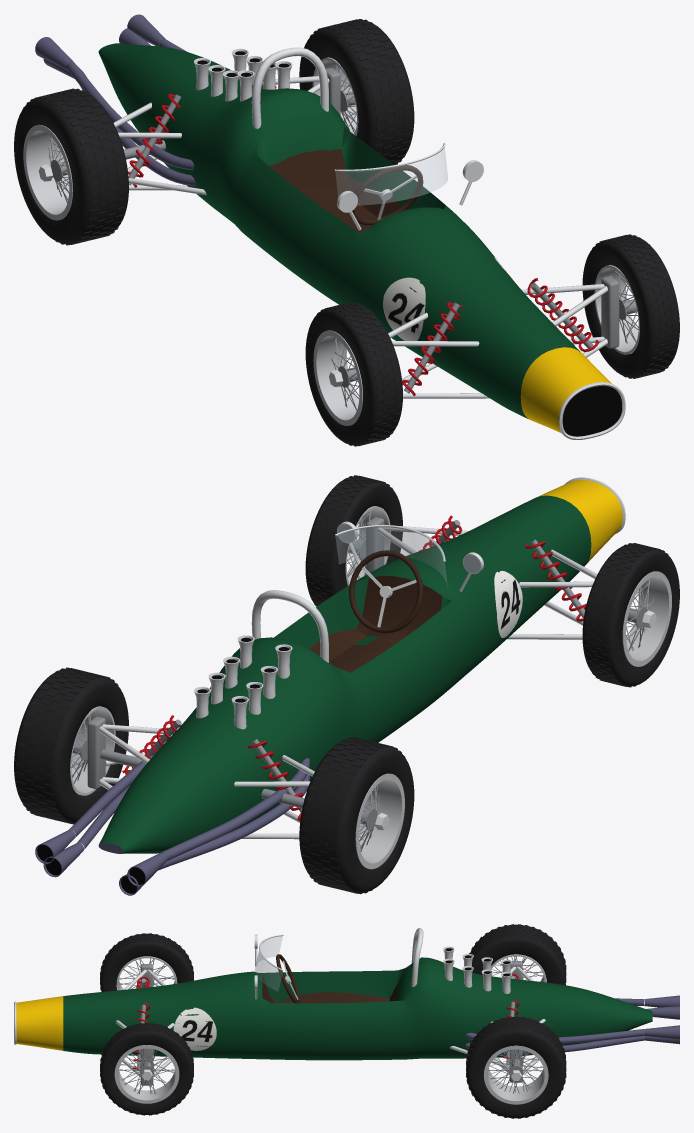
The model's file is ClassicFormula.glb.
The picture shows the model from 3 angles, top to bottom: view 1: azimuth 30°, elevation 25°; view 2: azimuth 150°, elevation 25°; view 3: azimuth 270°, elevation 25°; orthographic projection. The views are drawn at different scales.
Parts seen in each view (by area): view 1: Body, Wheel_RR, Wheel_FR, Wheel_RL, Wheel_FL, Steering_Wheel; view 2: Body, Wheel_RR, Wheel_RL, Wheel_FR, Wheel_FL, Steering_Wheel; view 3: Body, Wheel_RL, Wheel_FL, Wheel_RR, Wheel_FR, Steering_Wheel.
Part boxes in pixels (x1=…): Body: x1=35, y1=14, x2=625, y2=439; Wheel_RR: x1=14, y1=88, x2=128, y2=245; Wheel_FR: x1=305, y1=302, x2=402, y2=446; Wheel_RL: x1=299, y1=19, x2=414, y2=164; Wheel_FL: x1=582, y1=234, x2=679, y2=378; Steering_Wheel: x1=349, y1=165, x2=423, y2=225; Body: x1=35, y1=477, x2=625, y2=895; Wheel_RR: x1=299, y1=737, x2=414, y2=894; Wheel_RL: x1=14, y1=667, x2=128, y2=824; Wheel_FR: x1=582, y1=543, x2=679, y2=687; Wheel_FL: x1=305, y1=475, x2=402, y2=606; Steering_Wheel: x1=349, y1=550, x2=423, y2=633; Body: x1=14, y1=928, x2=679, y2=1085; Wheel_RL: x1=466, y1=1016, x2=566, y2=1118; Wheel_FL: x1=100, y1=1022, x2=193, y2=1115; Wheel_RR: x1=469, y1=924, x2=566, y2=985; Wheel_FR: x1=100, y1=933, x2=193, y2=991; Steering_Wheel: x1=276, y1=954, x2=300, y2=1003.
Size of the model in its own units: 1.64 by 0.931 by 4.15.
Materials: 14 (2 with a texture image).
